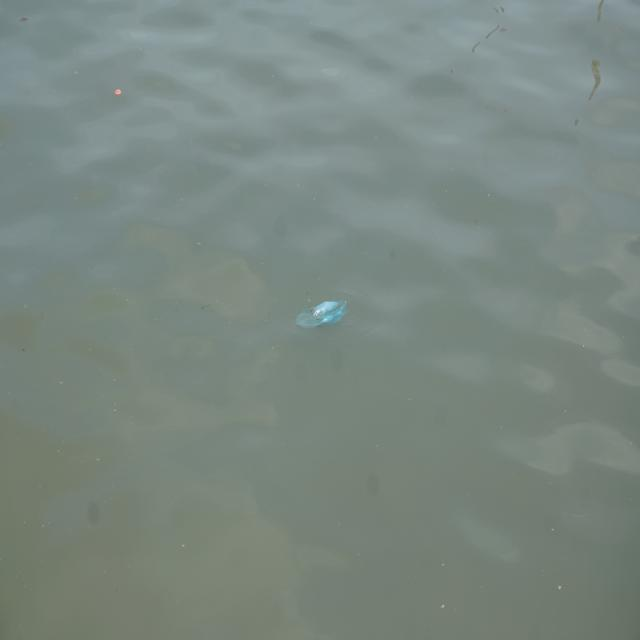Kantong Plastik: (295, 297, 350, 333)
